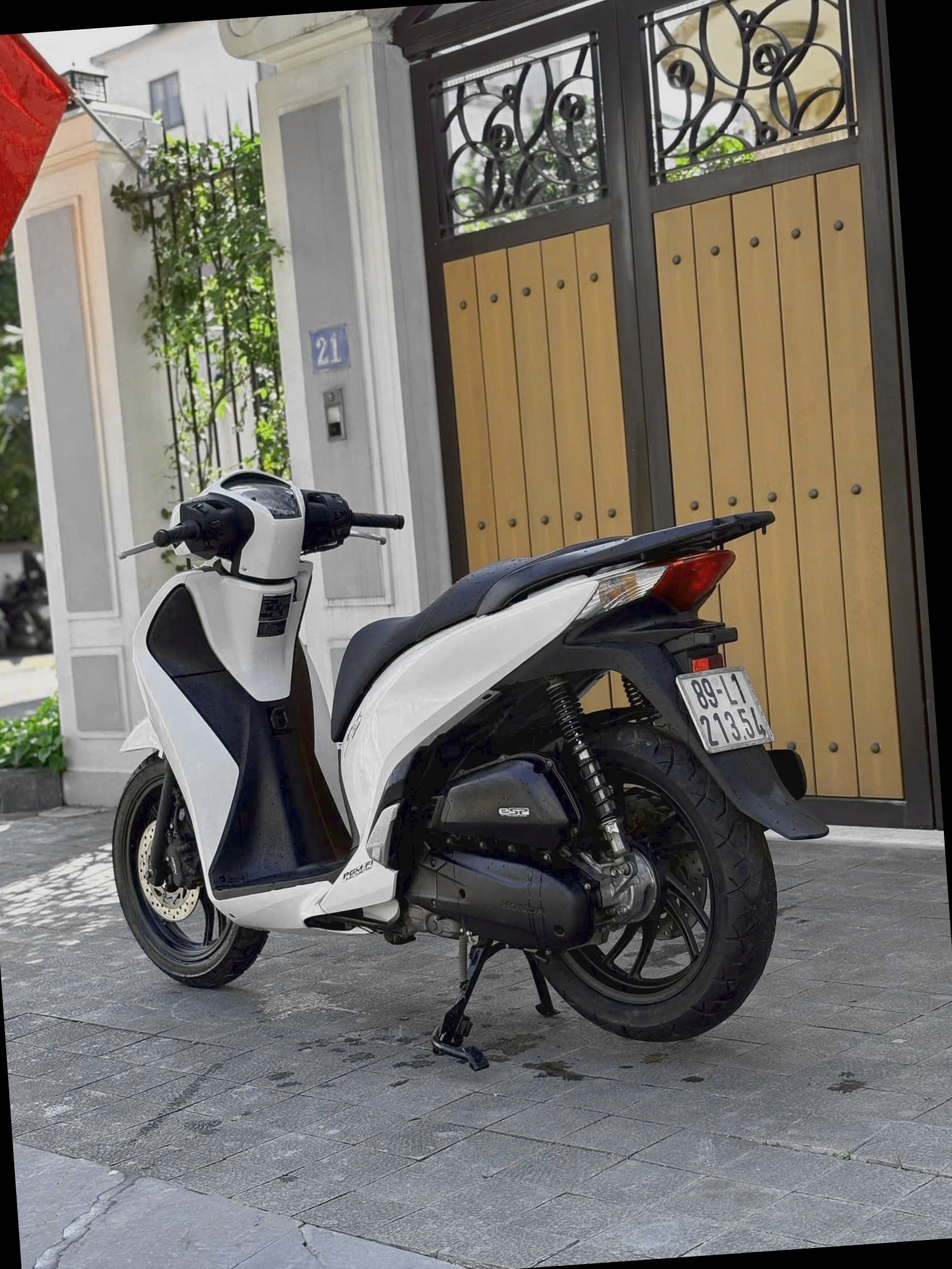Bien-so: (683, 646, 798, 758)
